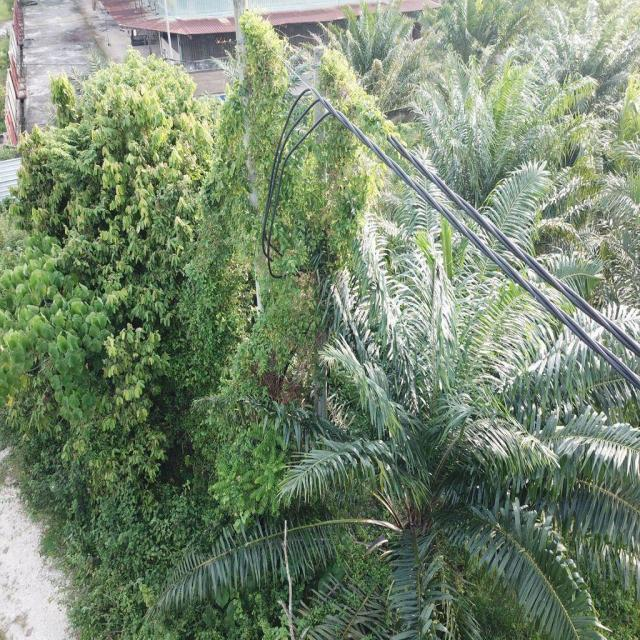critical vegetation: (204, 14, 402, 333)
